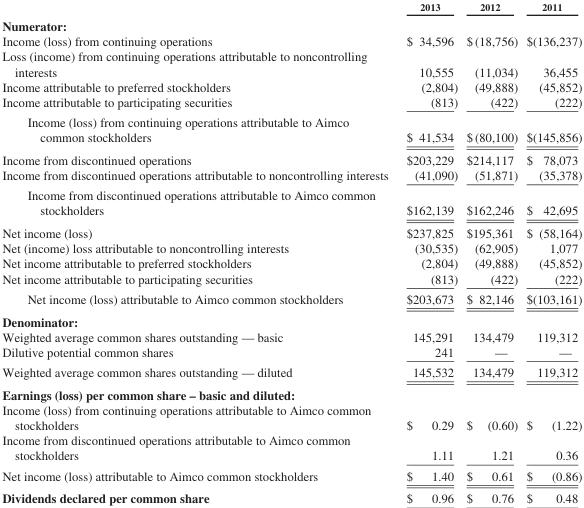table: (1, 0, 581, 505)
table column: (1, 0, 396, 505), (396, 0, 461, 505), (461, 0, 521, 505), (521, 0, 581, 505)
table column header: (1, 0, 581, 15)
table projected row header: (1, 382, 581, 402), (1, 309, 581, 328), (1, 15, 581, 33)
table row: (1, 111, 581, 148), (1, 184, 581, 221), (1, 432, 581, 465), (1, 48, 581, 78), (1, 402, 581, 432), (1, 288, 581, 309), (1, 361, 581, 382), (1, 465, 581, 486), (1, 382, 581, 402), (1, 148, 581, 167), (1, 221, 581, 240), (1, 309, 581, 328), (1, 486, 581, 505), (1, 15, 581, 33), (1, 93, 581, 111), (1, 270, 581, 288), (1, 343, 581, 361), (1, 167, 581, 184), (1, 0, 581, 15), (1, 33, 581, 48), (1, 78, 581, 93), (1, 240, 581, 255), (1, 255, 581, 270), (1, 328, 581, 343)
